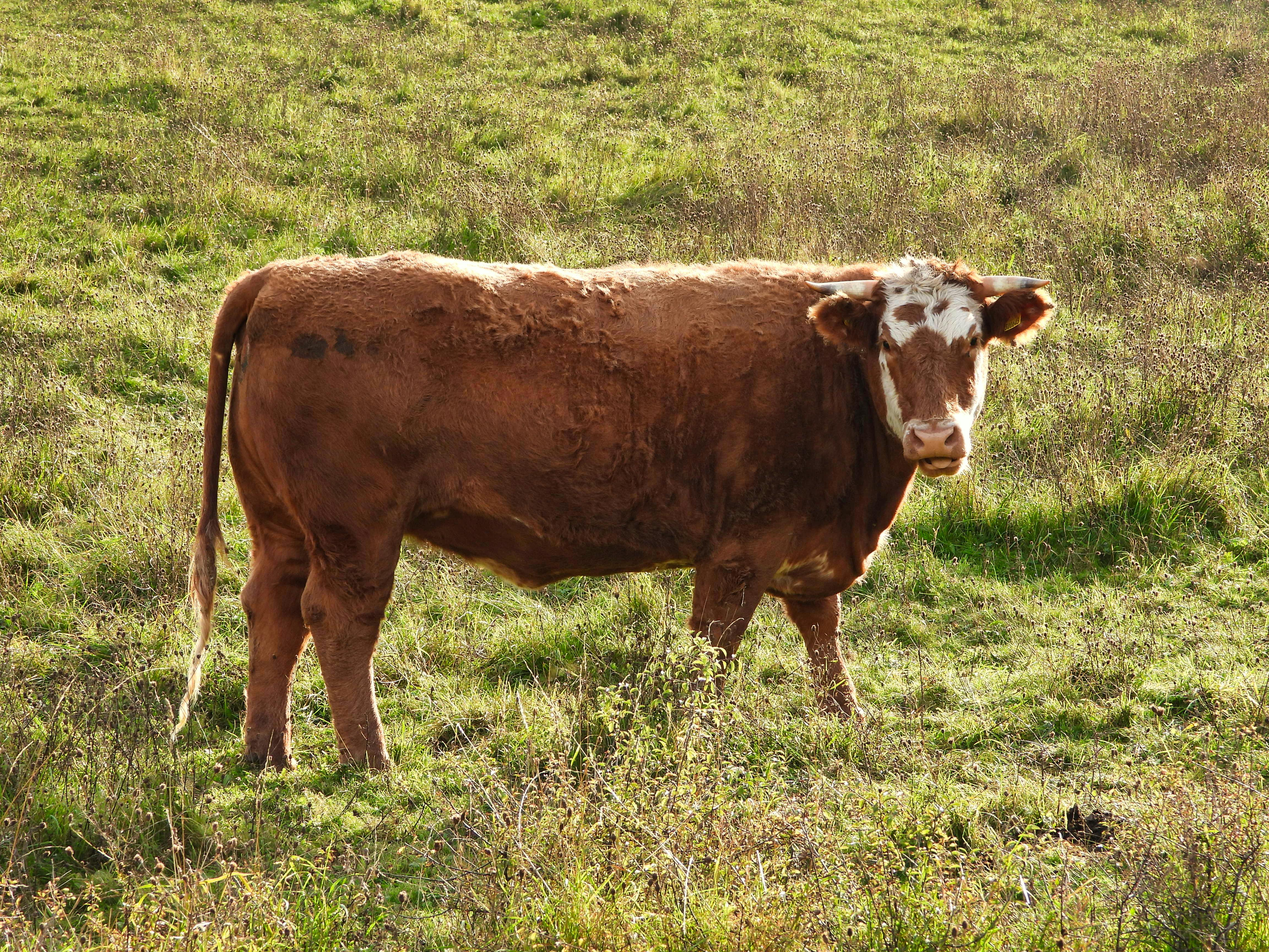bovino: (229, 248, 1057, 775)
